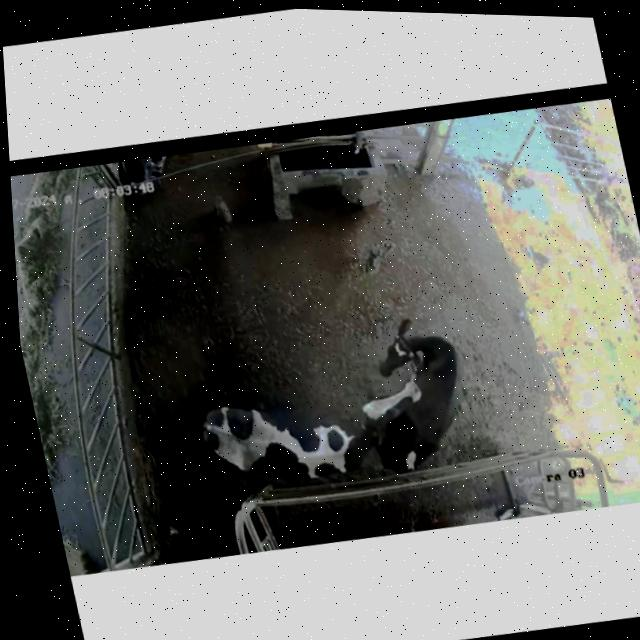propping: (320, 365, 470, 473)
